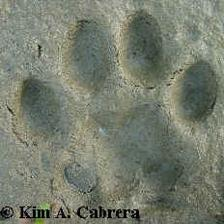cat: (14, 12, 219, 205)
